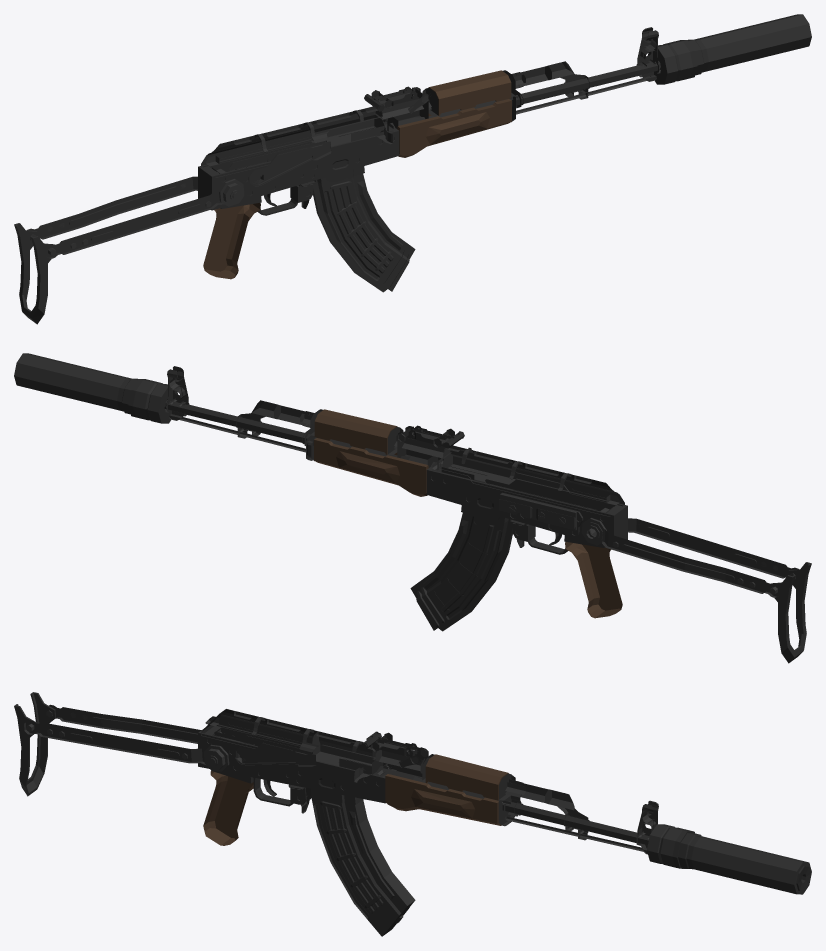
The model's file is low-poly_spetsnaz_akmnsb-named-nodes.glb.
The picture shows the model from 3 angles, top to bottom: view 1: azimuth 30°, elevation 25°; view 2: azimuth 150°, elevation 25°; view 3: azimuth 330°, elevation 25°; orthographic projection.
Visible parts, largest first — view 1: Object_11, Object_4, Object_8, Object_5, Object_6, Object_10, Object_9; view 2: Object_11, Object_4, Object_8, Object_5, Object_6, Object_10; view 3: Object_11, Object_4, Object_8, Object_5, Object_6, Object_10, Object_9.
Part boxes in pixels (left/top/right/bottom): Object_11: left=14, top=91, right=429, bottom=324; Object_4: left=198, top=14, right=811, bottom=215; Object_8: left=203, top=70, right=511, bottom=279; Object_5: left=264, top=32, right=708, bottom=208; Object_6: left=311, top=74, right=525, bottom=146; Object_10: left=30, top=39, right=656, bottom=255; Object_9: left=246, top=89, right=413, bottom=186; Object_11: left=410, top=426, right=811, bottom=663; Object_4: left=14, top=353, right=627, bottom=554; Object_8: left=314, top=409, right=622, bottom=618; Object_5: left=117, top=371, right=561, bottom=547; Object_6: left=300, top=413, right=576, bottom=530; Object_10: left=169, top=378, right=795, bottom=594; Object_11: left=14, top=692, right=419, bottom=936; Object_4: left=198, top=724, right=811, bottom=894; Object_8: left=203, top=754, right=508, bottom=845; Object_5: left=263, top=732, right=811, bottom=923; Object_6: left=312, top=733, right=525, bottom=794; Object_10: left=26, top=710, right=654, bottom=851; Object_9: left=235, top=731, right=415, bottom=766.
Size of the model in its own units: 5.81 by 1.4 by 0.4232.
Materials: 1 (1 with a texture image).
